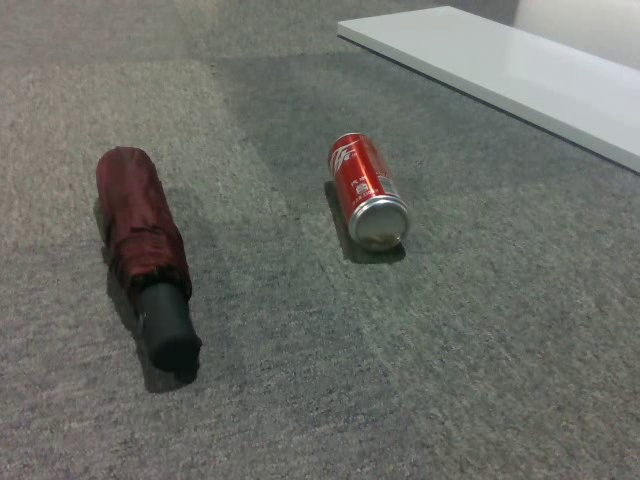CocaCola_Canned_Slender: (328, 133, 407, 251)
Umbrella_Fold_Brown: (97, 147, 194, 370)
